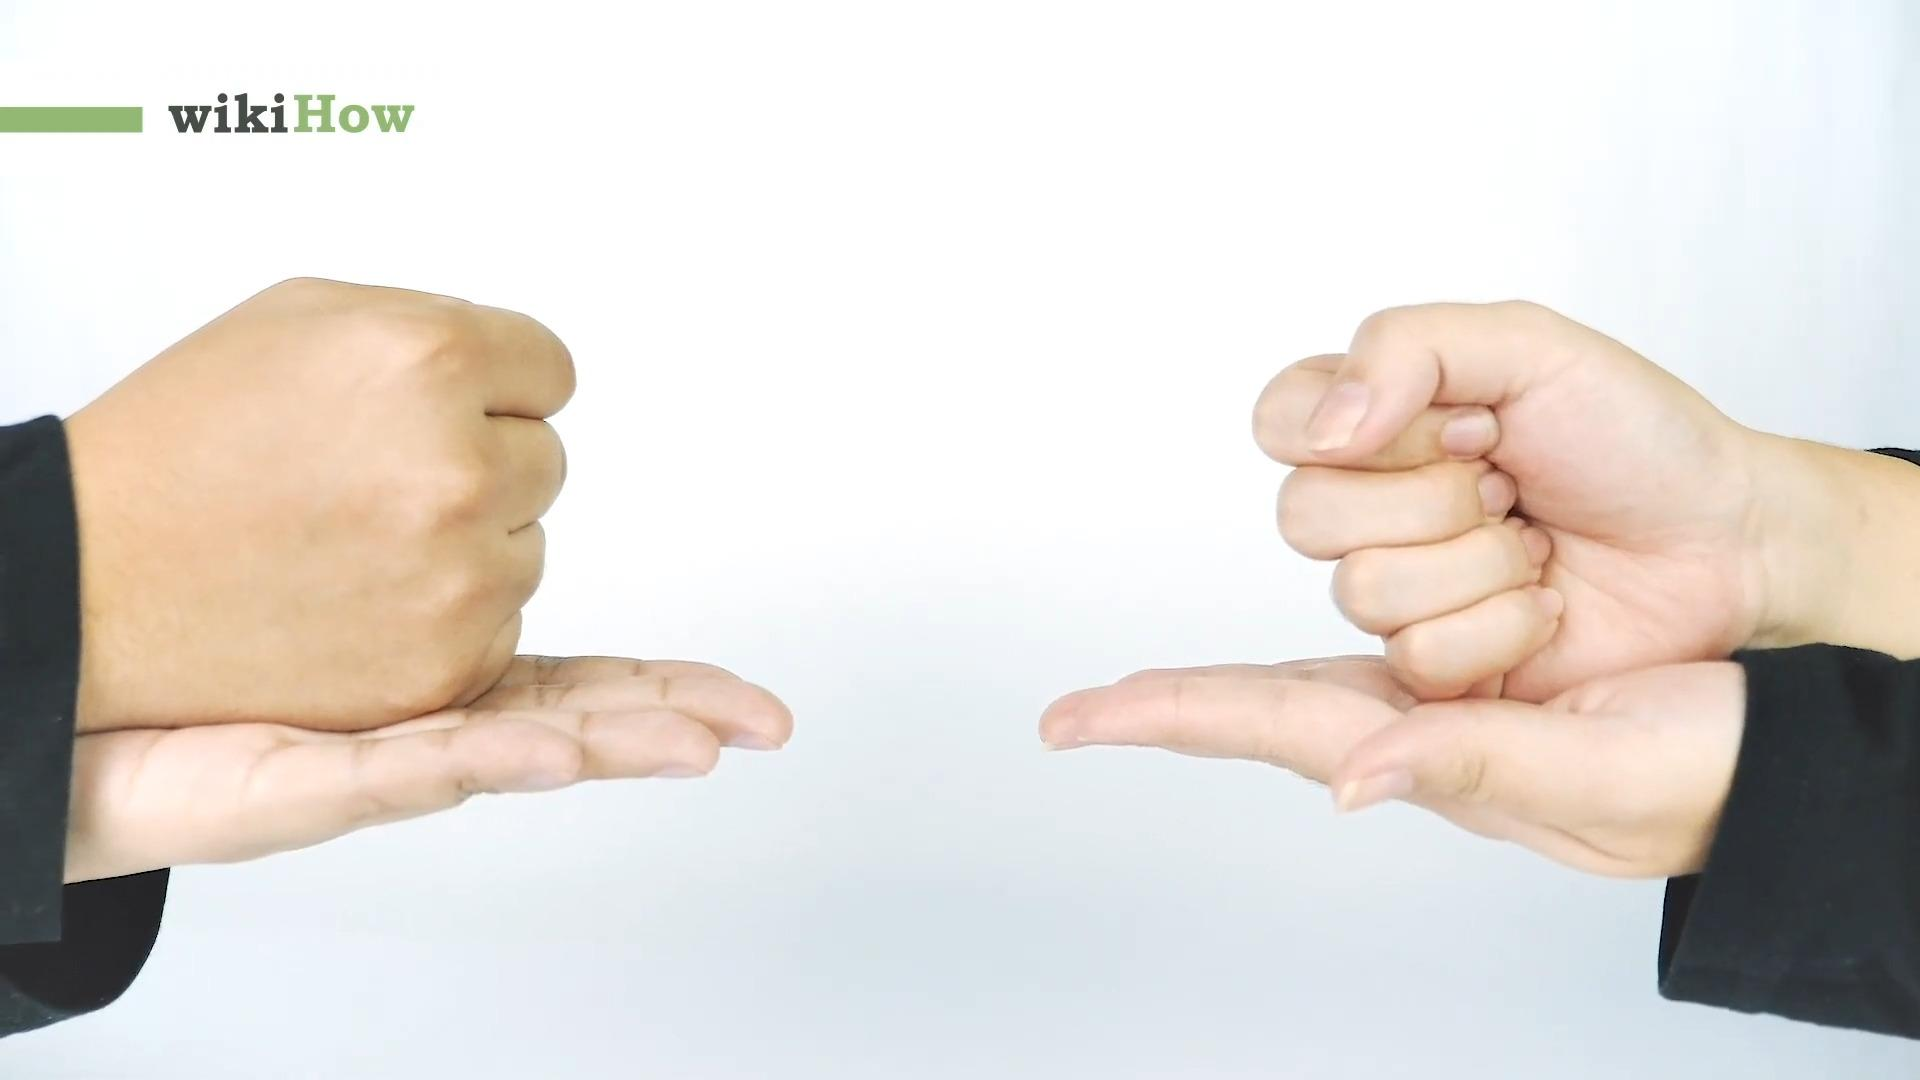Rock: (84, 281, 582, 733), (1242, 286, 1755, 690)
